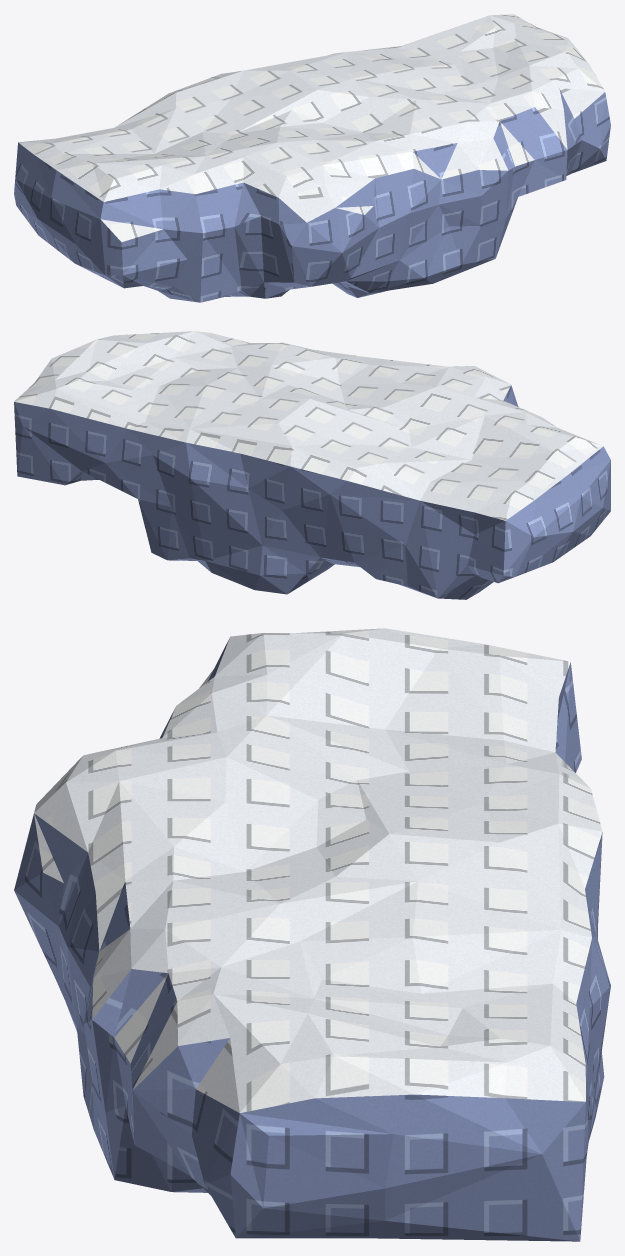
The model's file is IceOverhang.glb.
The picture shows the model from 3 angles, top to bottom: view 1: azimuth 30°, elevation 25°; view 2: azimuth 150°, elevation 25°; view 3: azimuth 270°, elevation 25°; orthographic projection. The views are drawn at different scales.
Visible parts, largest first — view 1: IceOverhang_Top, IceOverhang_Rock; view 2: IceOverhang_Top, IceOverhang_Rock; view 3: IceOverhang_Top, IceOverhang_Rock.
Part boxes in pixels (x1,y1,x2,y2): IceOverhang_Top: [18, 14, 604, 242]; IceOverhang_Rock: [14, 88, 610, 302]; IceOverhang_Top: [14, 331, 603, 520]; IceOverhang_Rock: [14, 385, 610, 599]; IceOverhang_Top: [34, 628, 602, 1112]; IceOverhang_Rock: [14, 639, 610, 1241].
Bounding box in the file's own units: 14.32 × 4.16 × 7.54.
2 materials, 2 textured.
